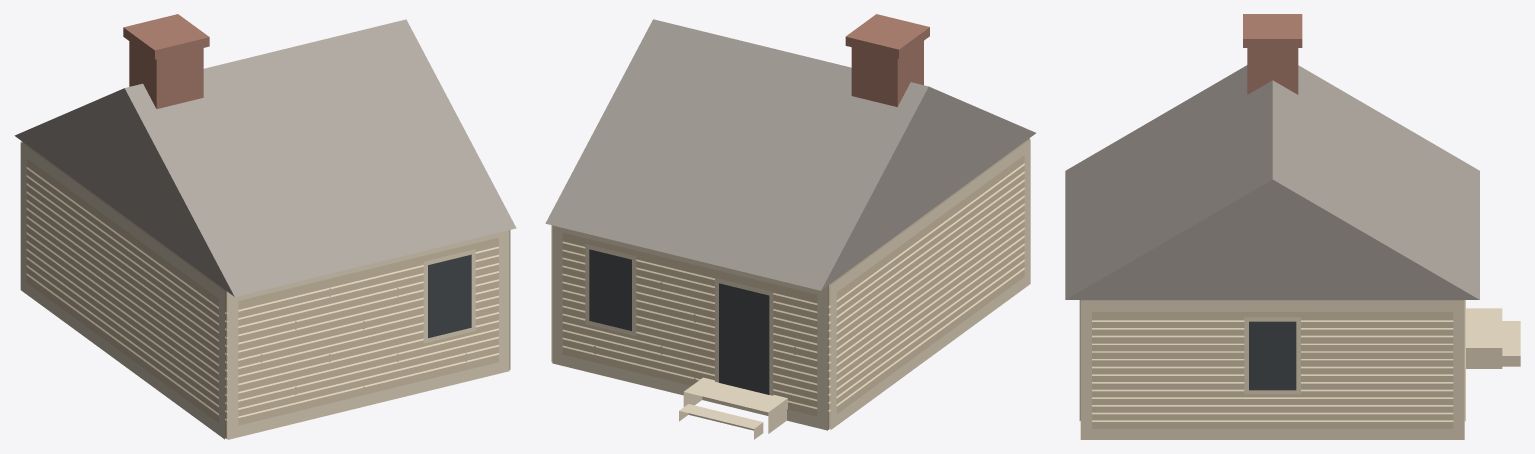
File: recon_1835_blk_south_water_lasalle_d3_03__inferred_1835.glb
3 renders of one model, left to right at view 1: azimuth 30°, elevation 25°; view 2: azimuth 150°, elevation 25°; view 3: azimuth 270°, elevation 25°, orthographic. The views are drawn at different scales.
Visible parts, largest first — view 1: recon_1835_blk_south_water_lasalle_d3_03__inferred_1835; view 2: recon_1835_blk_south_water_lasalle_d3_03__inferred_1835; view 3: recon_1835_blk_south_water_lasalle_d3_03__inferred_1835.
Boxes of the visible parts, box(x1,y1,x2,y2) form: recon_1835_blk_south_water_lasalle_d3_03__inferred_1835: box(14, 14, 516, 439); recon_1835_blk_south_water_lasalle_d3_03__inferred_1835: box(545, 14, 1035, 439); recon_1835_blk_south_water_lasalle_d3_03__inferred_1835: box(1065, 14, 1520, 439).
Bounding box in the file's own units: 5.12 × 5.5 × 7.5.
